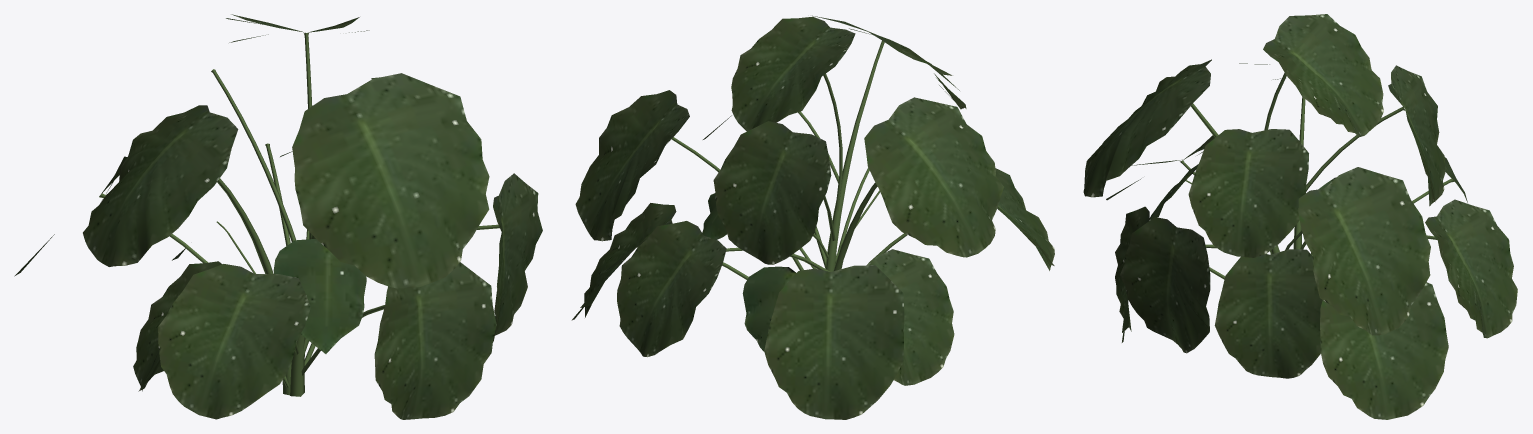
File: SM_pal_b00_bush_RainforestMonstera_01_dd9c2e.glb
The picture shows the model from 3 angles, left to right: view 1: azimuth 30°, elevation 25°; view 2: azimuth 150°, elevation 25°; view 3: azimuth 270°, elevation 25°; orthographic projection. The views are drawn at different scales.
Size of the model in its own units: 2.18 by 1.78 by 2.17.
Materials: 1 (1 with a texture image).
